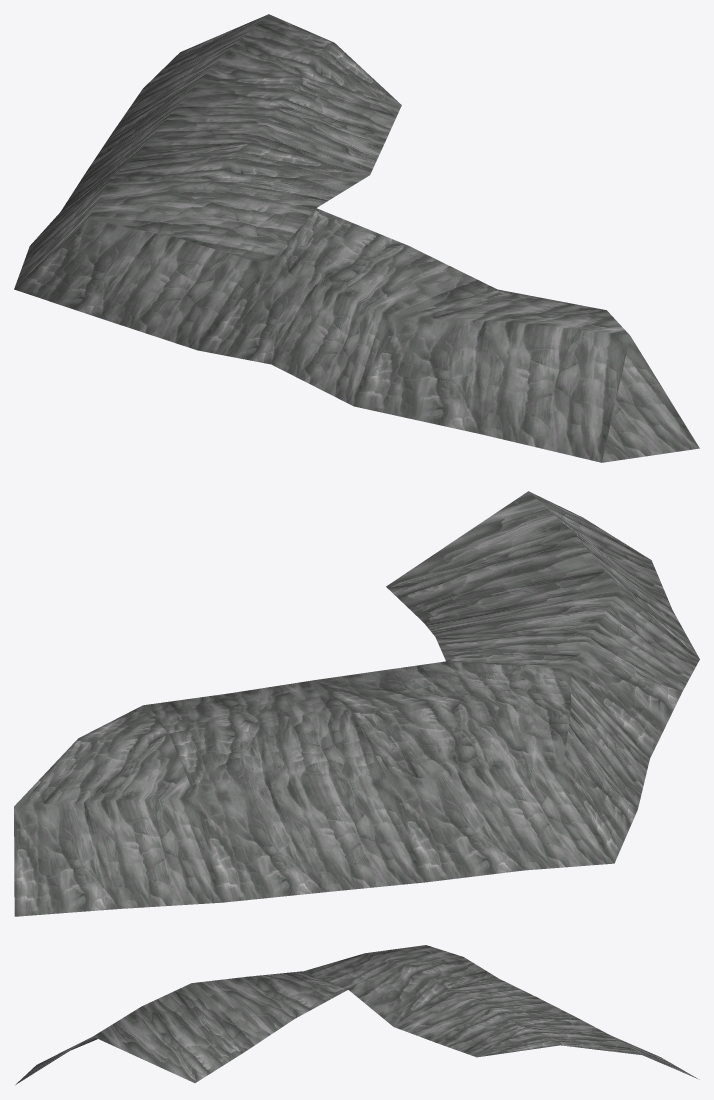
File: SWORDLIGHT20_PS-AREA04_15.fbx
The picture shows the model from 3 angles, top to bottom: view 1: azimuth 30°, elevation 25°; view 2: azimuth 150°, elevation 25°; view 3: azimuth 270°, elevation 25°; orthographic projection. The views are drawn at different scales.
Visible parts, largest first — view 1: SWORDLIGHT20_PS-AREA04_15; view 2: SWORDLIGHT20_PS-AREA04_15; view 3: SWORDLIGHT20_PS-AREA04_15.
Boxes of the visible parts, box(x1,y1,x2,y2) form: SWORDLIGHT20_PS-AREA04_15: box(14, 14, 699, 462); SWORDLIGHT20_PS-AREA04_15: box(14, 491, 699, 916); SWORDLIGHT20_PS-AREA04_15: box(15, 945, 699, 1084).
Bounding box in the file's own units: 105191 × 24587 × 231135.
Materials: 1 (1 with a texture image).
